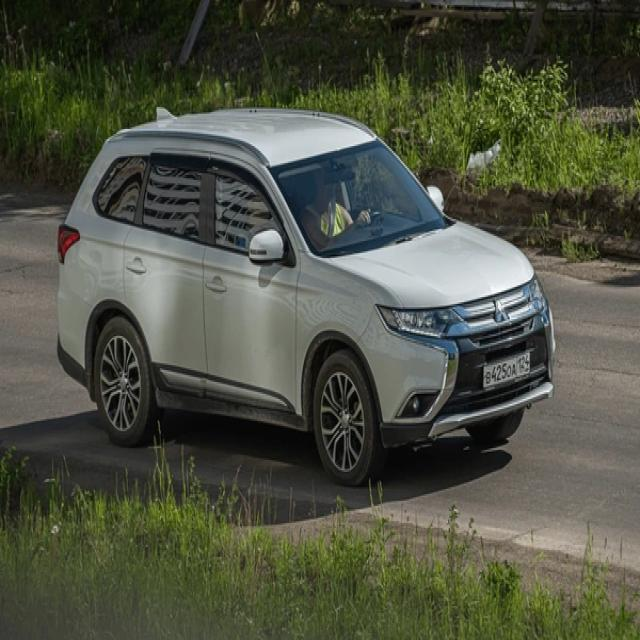mitsubishi: (494, 294, 509, 326)
